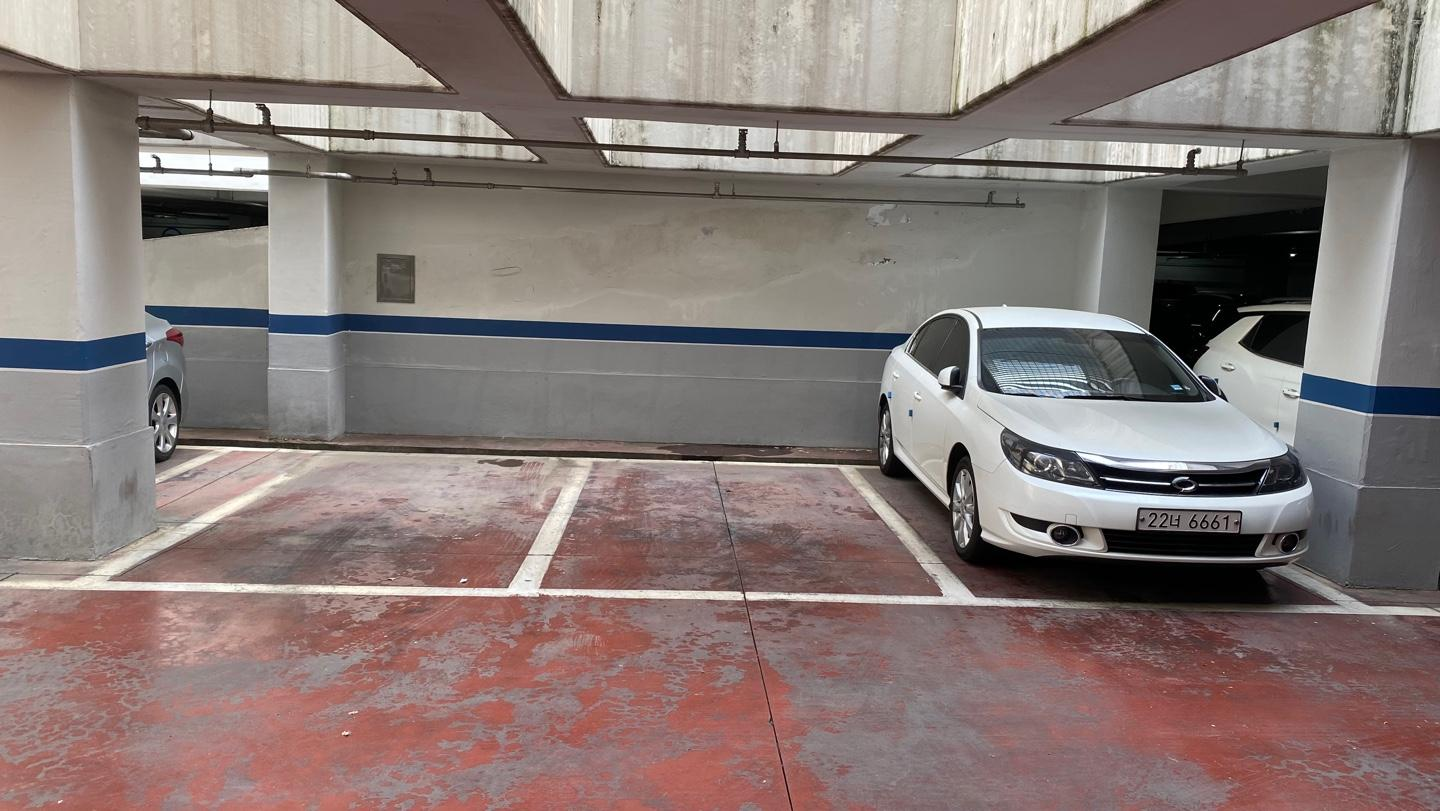empty: (68, 451, 599, 599), (508, 454, 980, 605)
occupied: (904, 305, 1322, 588)
